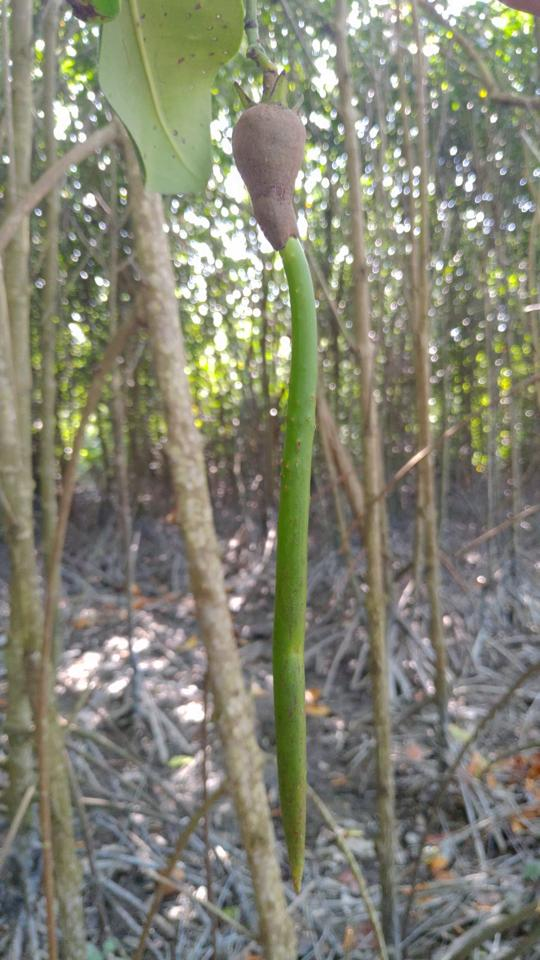mentah: (216, 59, 324, 906)
